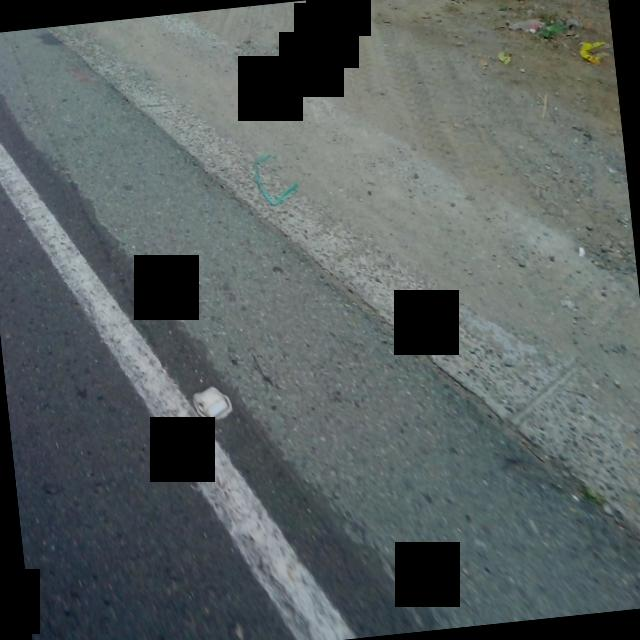DITCH: (0, 0, 640, 640), (0, 83, 640, 640)
